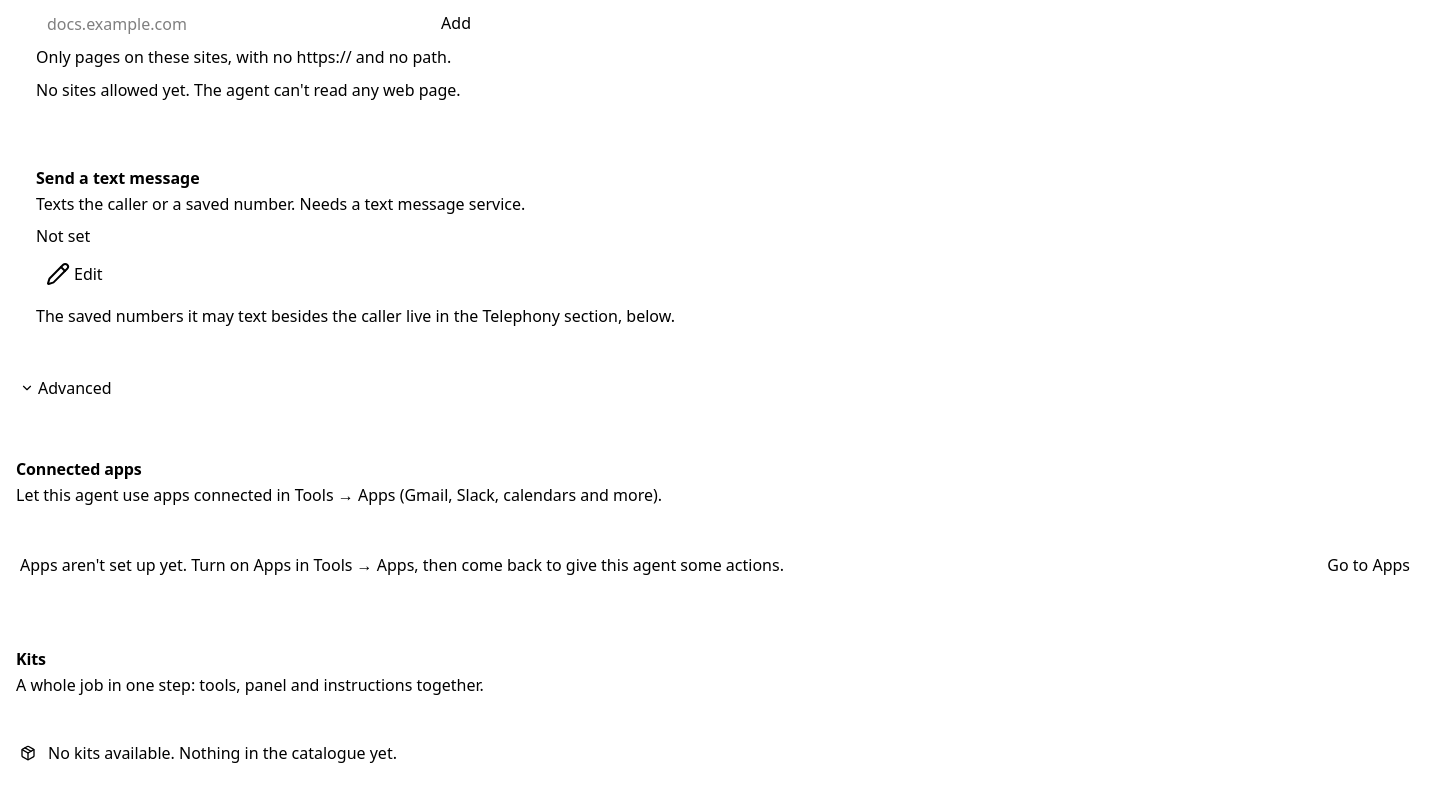
Test: ToolsTab › shows the pack's read-only tools in mono, and 'Tool steps per turn' behind Advanced
(page scrolled)
Expected: the field labelled "Tool steps per turn" is not shown
What coordinates should you click on to do the following:
click the button "Advanced"
I would click on:
 (66, 388)
Its box is [20, 376, 112, 400].
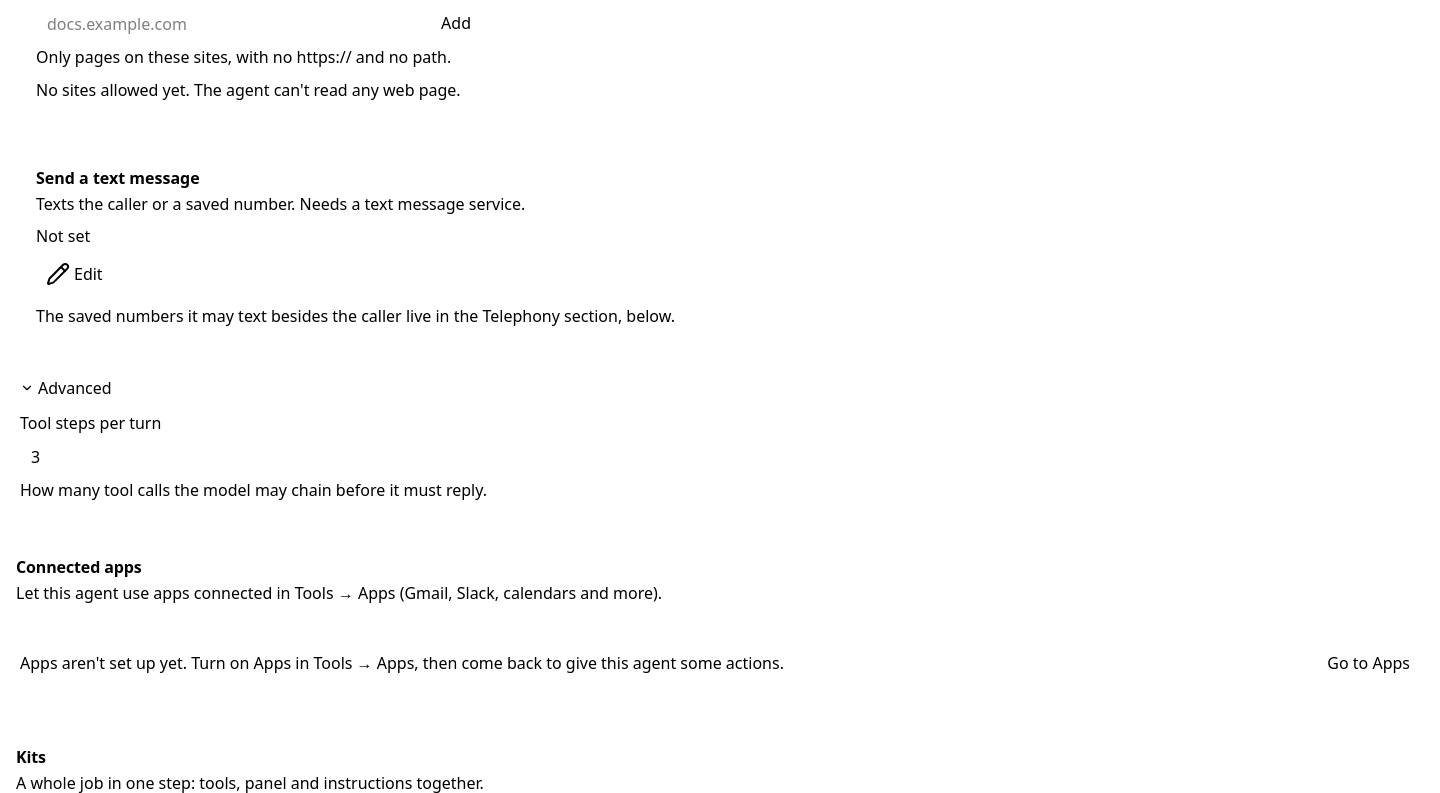
Expected: the number field labelled "Tool steps per turn" is shown, [20, 439, 148, 475]
